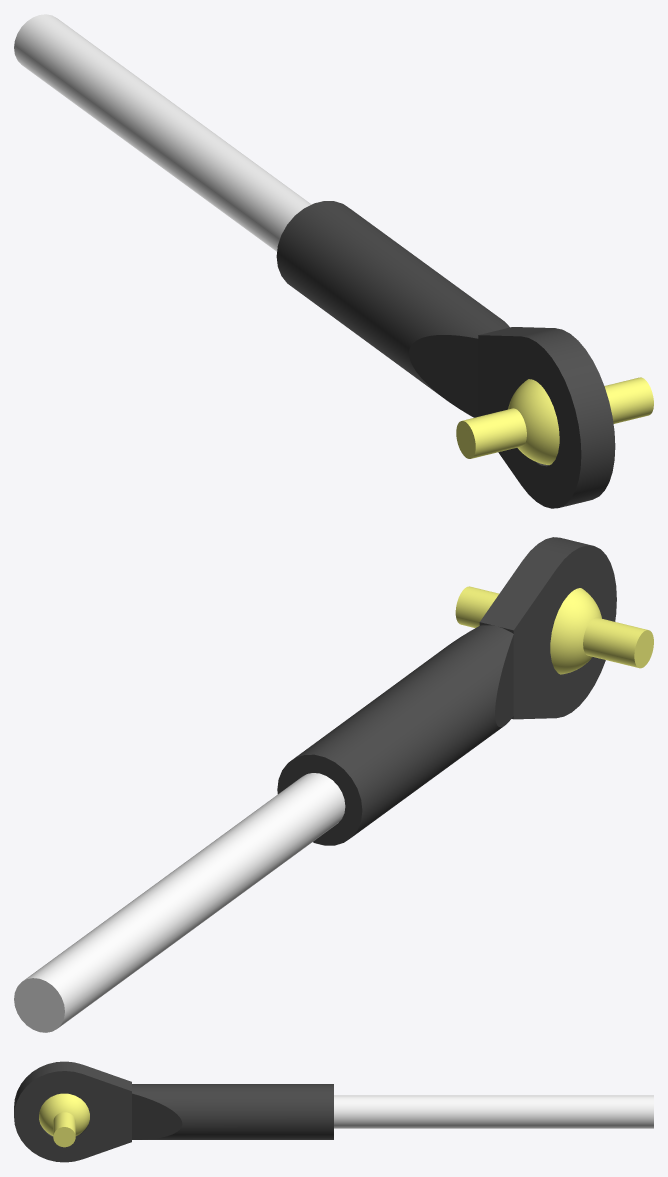
File: Push rod connector servo end.fbx
3 renders of one model, top to bottom at view 1: azimuth 30°, elevation 25°; view 2: azimuth 150°, elevation 25°; view 3: azimuth 270°, elevation 25°, orthographic. The views are drawn at different scales.
Visible parts, largest first — view 1: glossy rubber, color, gold ball joint; view 2: glossy rubber, color, gold ball joint; view 3: glossy rubber, color, gold ball joint.
Part boxes in pixels (box(x1,y1,x2,y2)): glossy rubber: box(276, 201, 615, 508); color: box(14, 14, 311, 251); gold ball joint: box(456, 377, 653, 465); glossy rubber: box(277, 537, 616, 845); color: box(14, 773, 345, 1032); gold ball joint: box(455, 586, 653, 674); glossy rubber: box(14, 1061, 333, 1162); color: box(334, 1095, 653, 1128); gold ball joint: box(39, 1093, 89, 1147).
Size of the model in its own units: 1.05 by 0.8999 by 5.7.
